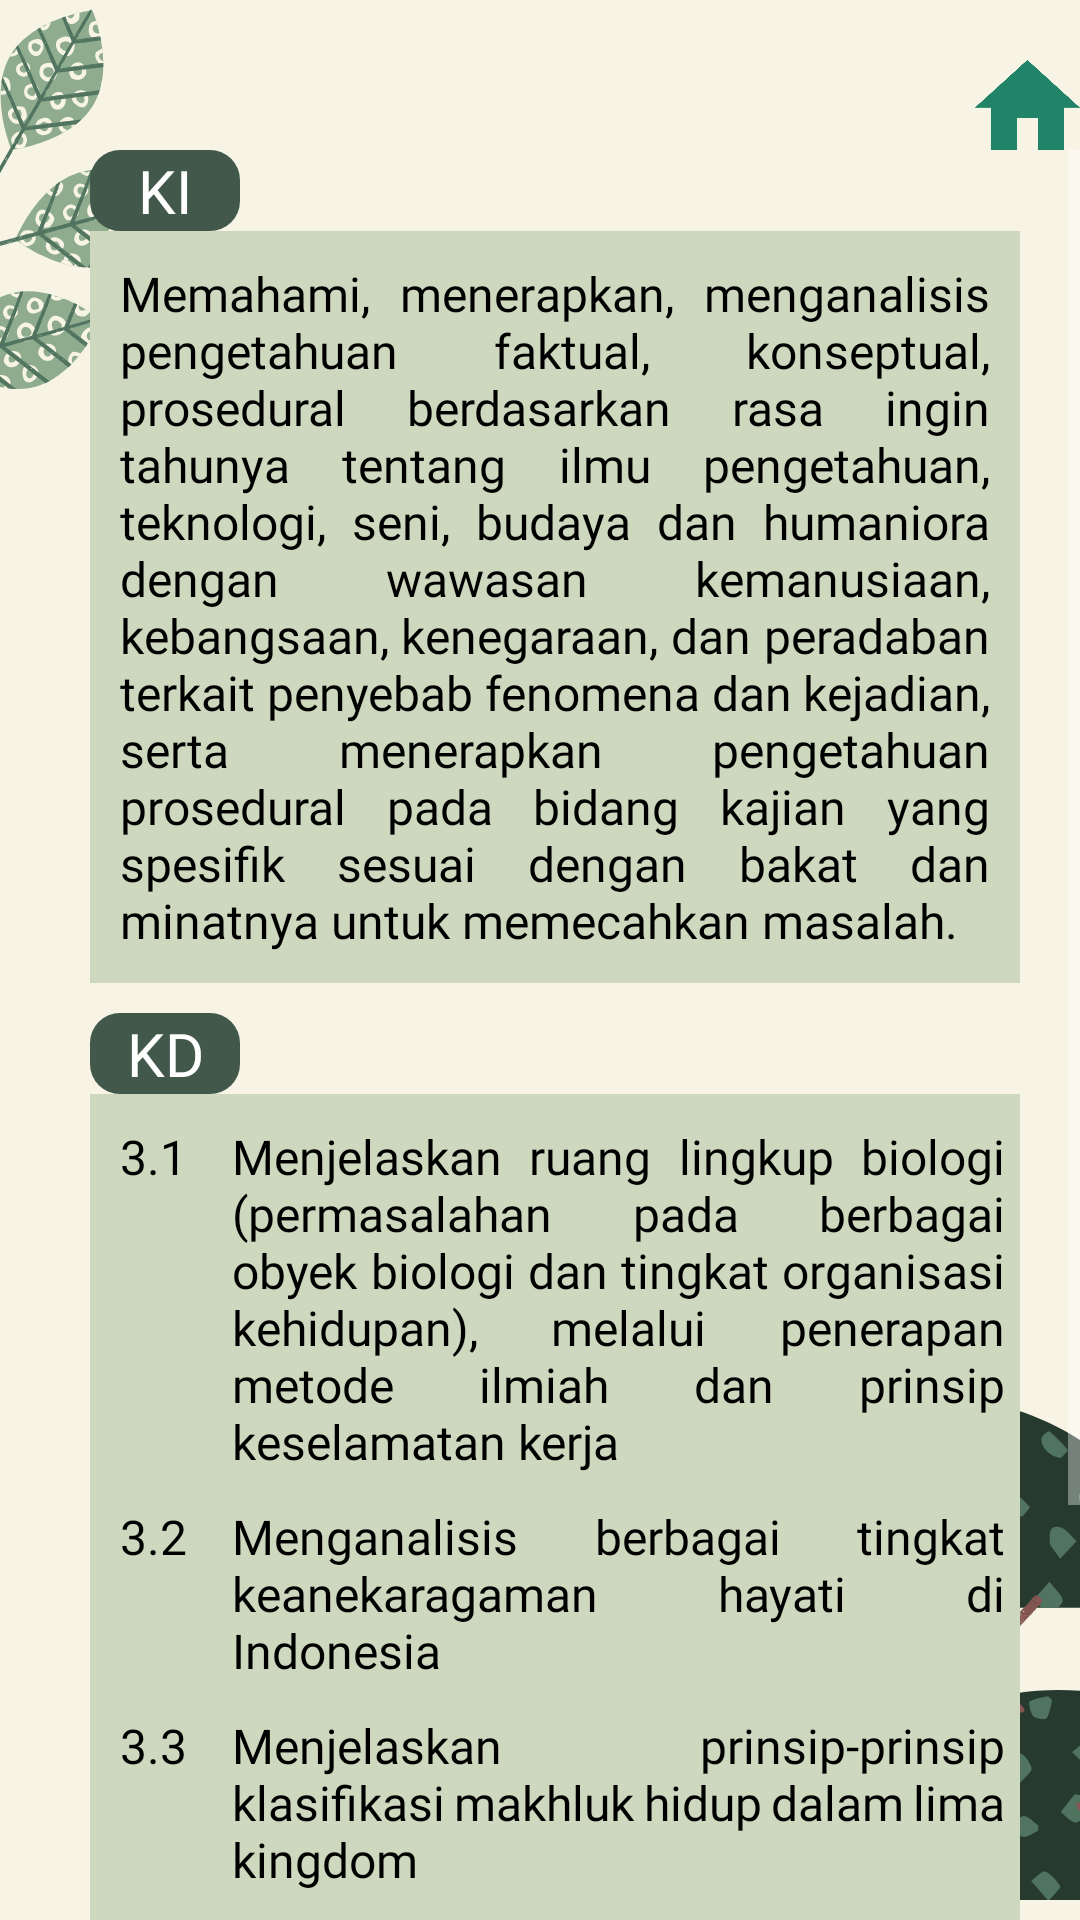

Screen size 1080px×1920px. Icon name, then its box in pixels as (x1, y1, x2, y2):
home: (975, 60, 1080, 150)
